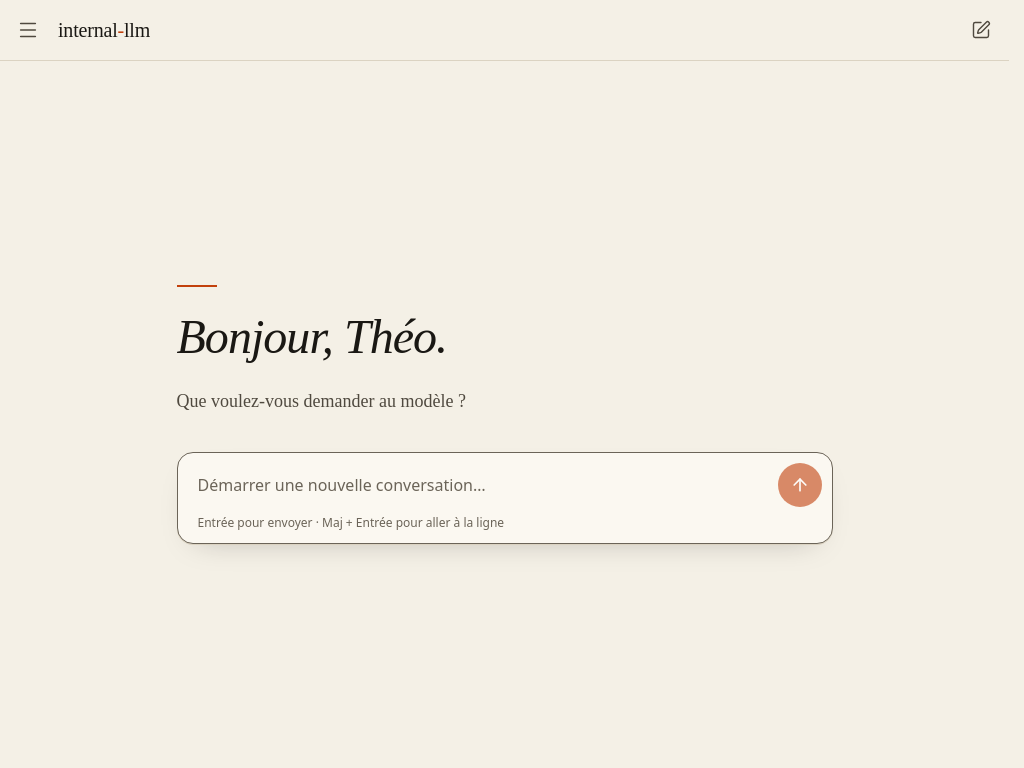
Test case: conversation list › closes the mobile drawer once a conversation is chosen
Expected: the heading "Bonjour, Théo." is shown, [176, 310, 447, 363]
Click the button named "Ouvrir la navigation" at {"x": 28, "y": 30}, box [6, 8, 50, 52]
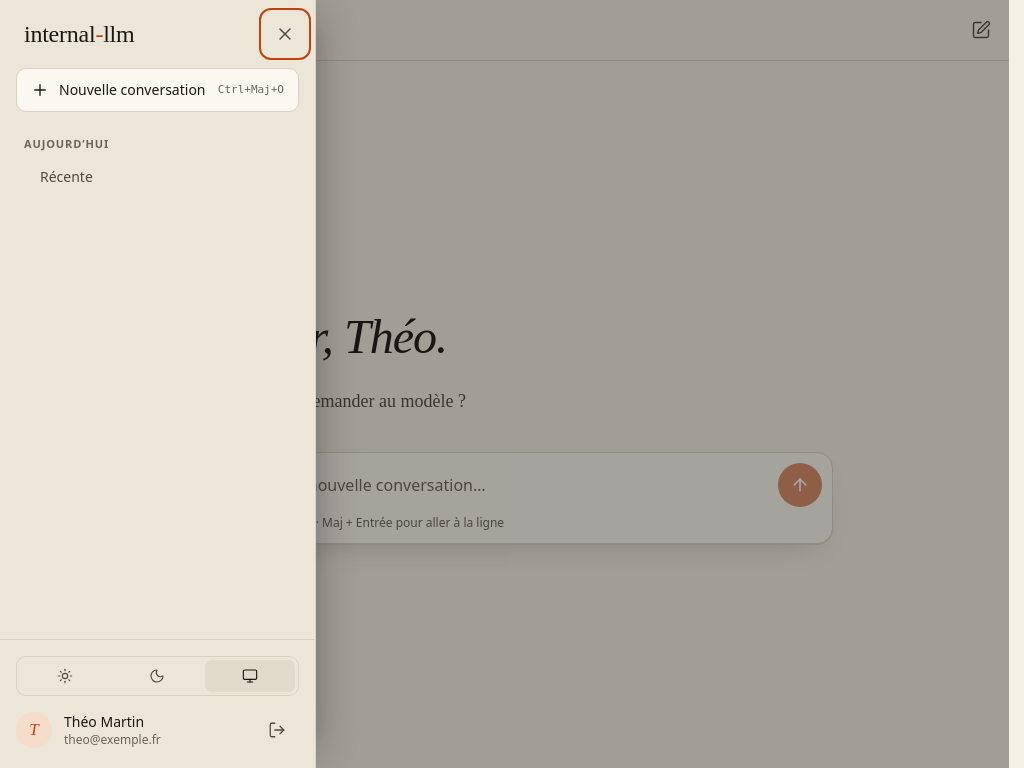
Click the link "Récente" at {"x": 66, "y": 176}, box [40, 166, 93, 186]
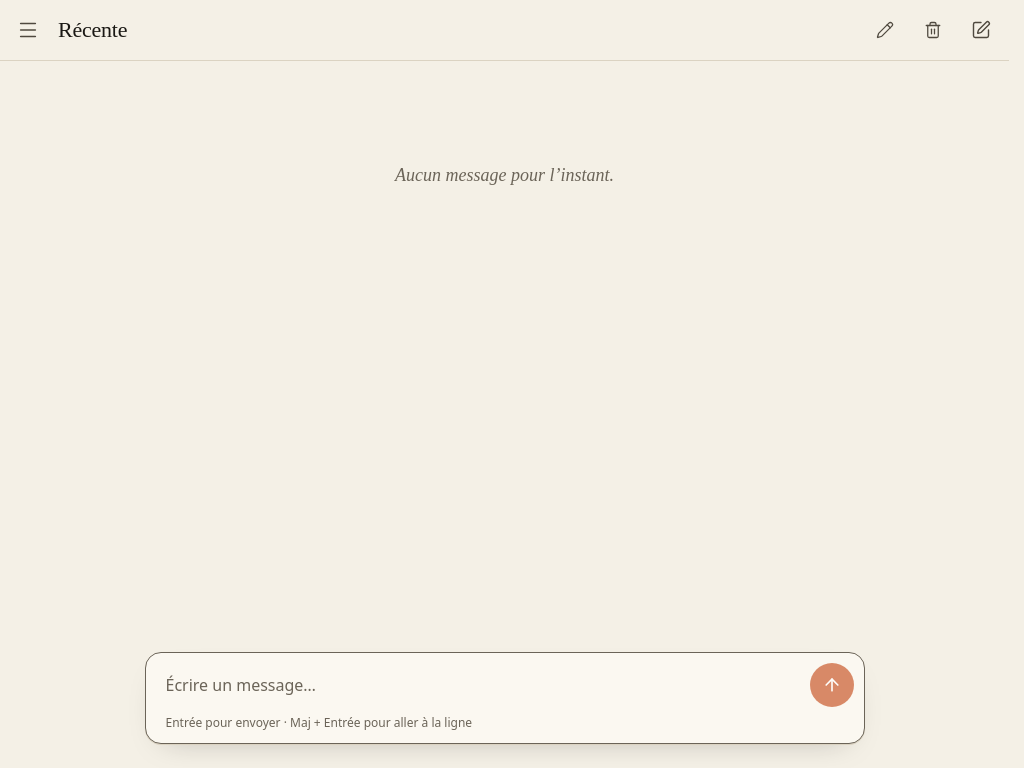
Now the heading "Récente" is shown, box [58, 17, 127, 42]
Now the dialog is gone
